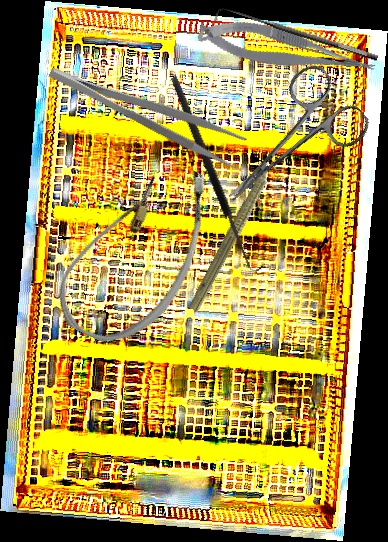Cannula: (44, 139, 229, 363)
Dressing Forceps: (46, 46, 248, 172)
Handpiece: (185, 147, 288, 316)
Hook Surgical: (169, 72, 266, 275), (211, 0, 380, 74)
Iris Scissors: (198, 57, 375, 231)
Micro Scissor: (194, 4, 379, 98)
